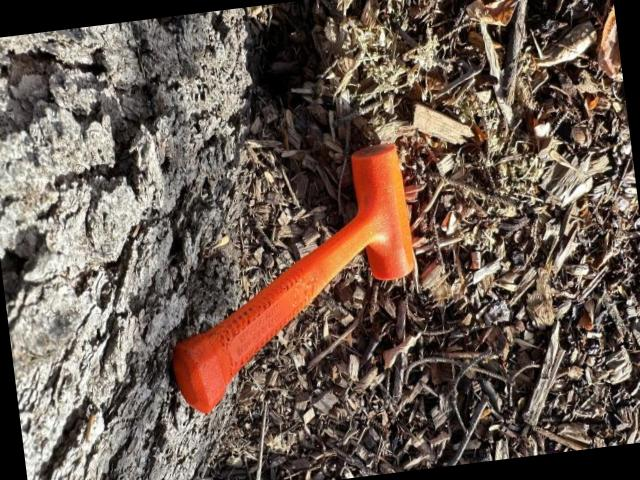hammer: (146, 142, 432, 418)
